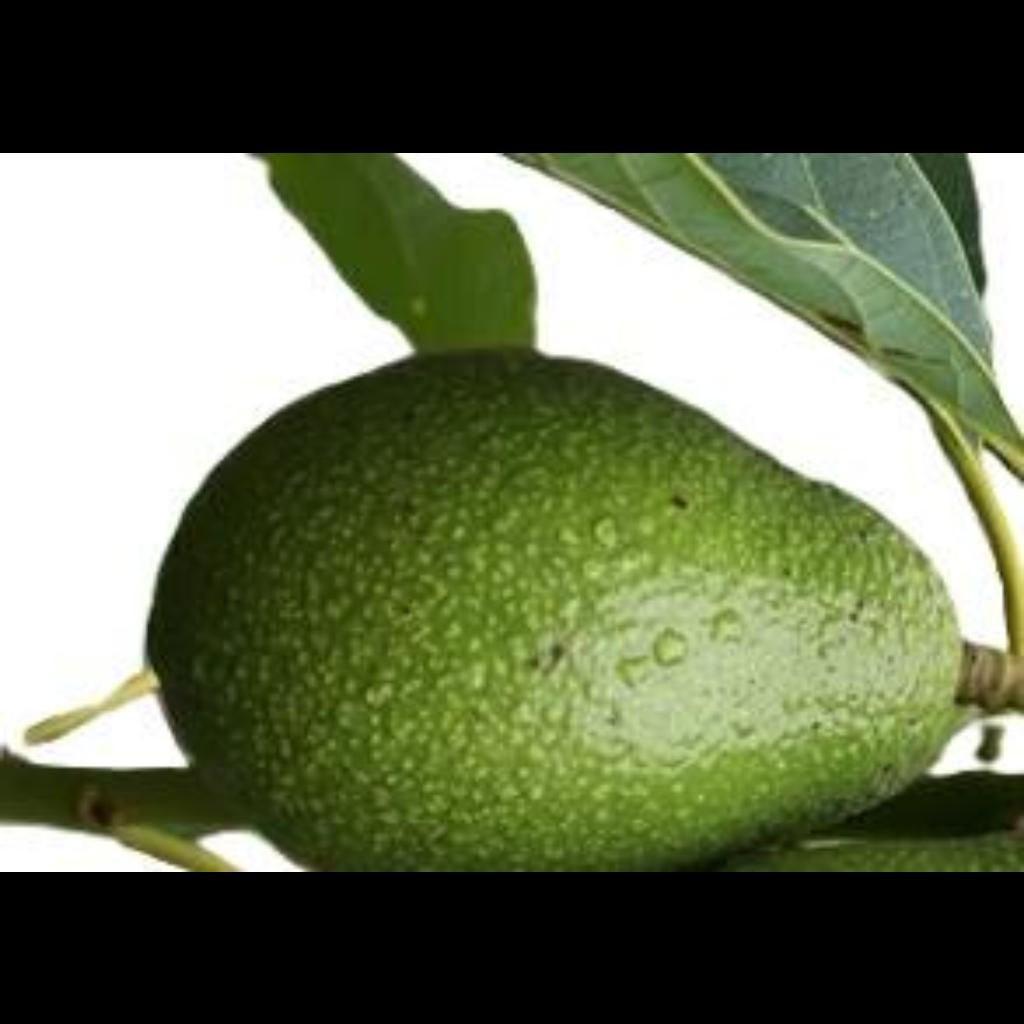Healthy: (140, 352, 960, 872)
